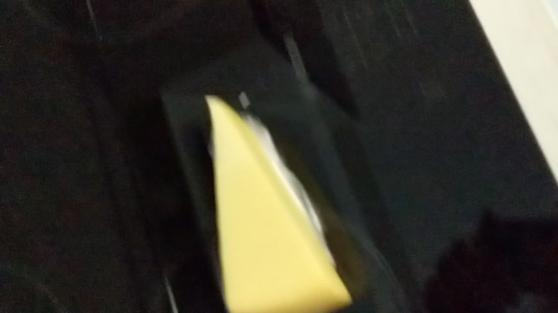cheese: (196, 88, 356, 313)
